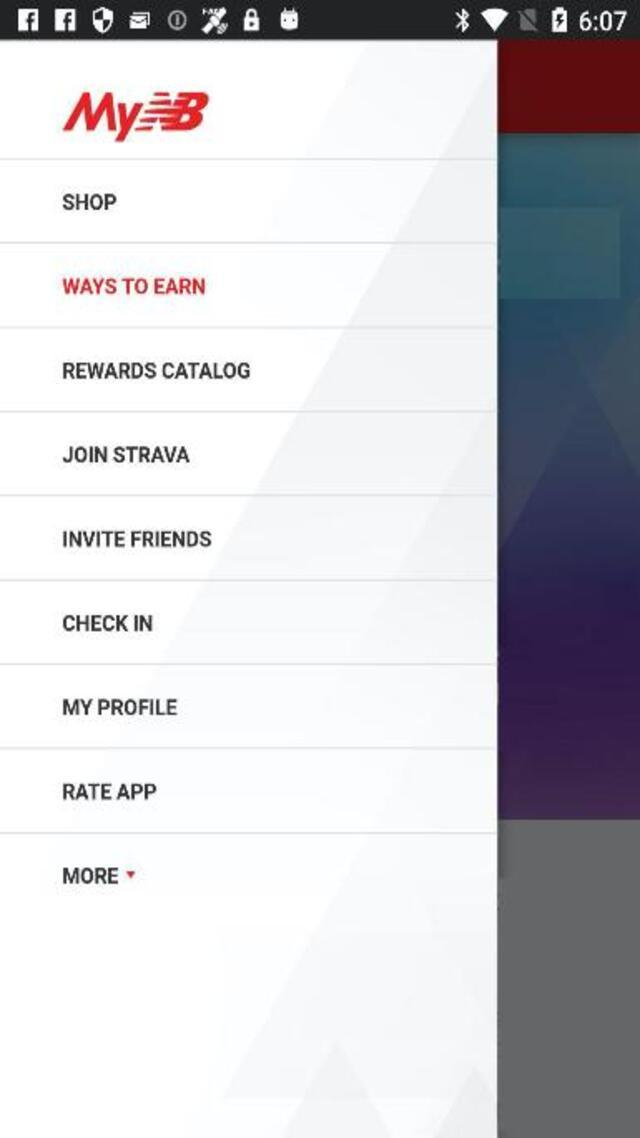Image: (60, 91, 208, 140)
Text: (62, 361, 250, 379), (62, 278, 205, 296), (64, 531, 212, 547), (62, 698, 177, 716), (62, 446, 190, 462), (63, 614, 153, 630), (62, 784, 157, 799), (63, 866, 120, 884), (62, 194, 118, 212)
